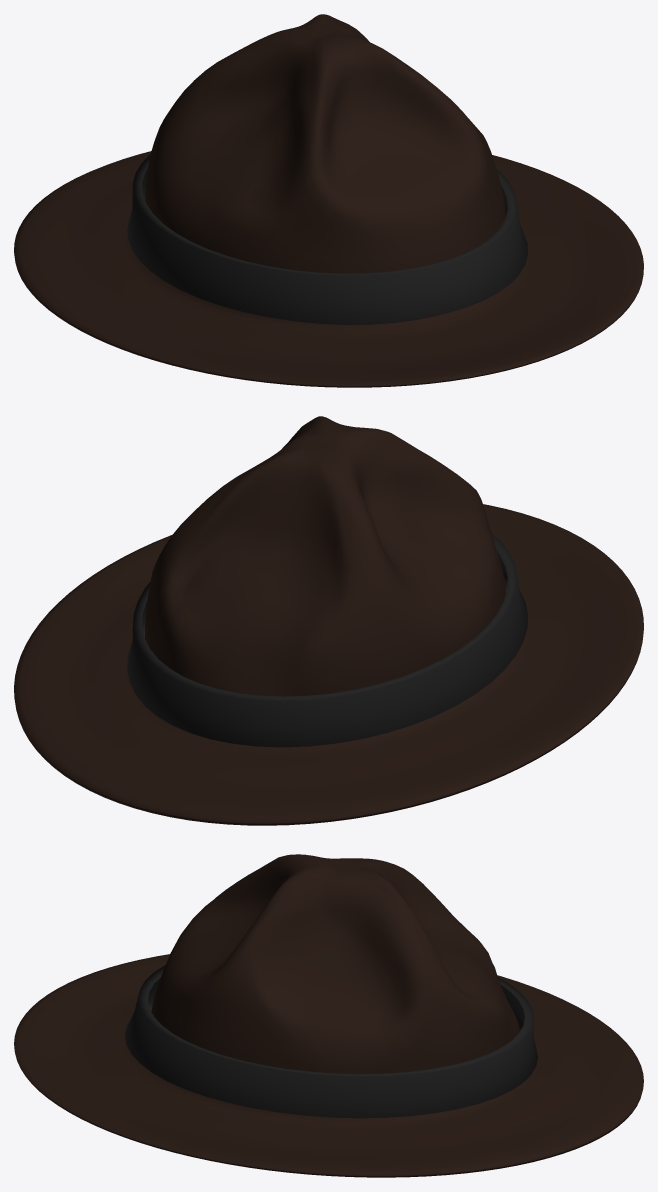
Rendered from smokey_hat.glb.
3 renders of one model, top to bottom at view 1: azimuth 30°, elevation 25°; view 2: azimuth 150°, elevation 25°; view 3: azimuth 270°, elevation 25°, orthographic. The views are drawn at different scales.
Visible parts, largest first — view 1: mountie_hat; view 2: mountie_hat; view 3: mountie_hat.
Part boxes in pixels (x1=…): mountie_hat: x1=14, y1=14, x2=643, y2=387; mountie_hat: x1=14, y1=416, x2=643, y2=825; mountie_hat: x1=14, y1=854, x2=643, y2=1177.
Bounding box in the file's own units: 0.3132 × 0.1441 × 0.3685.
